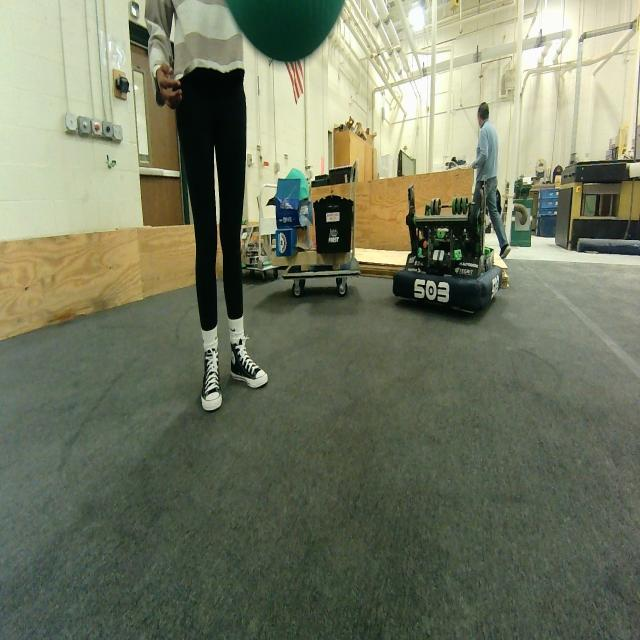algae: (225, 0, 344, 63)
